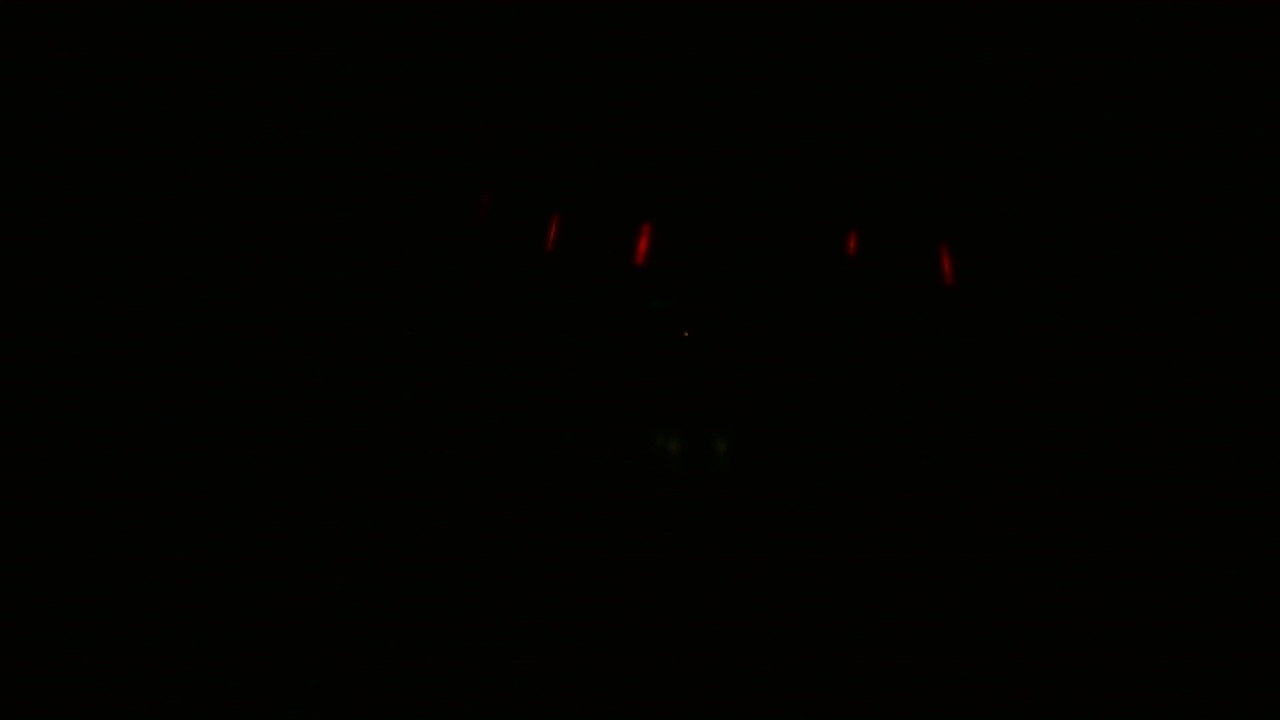pair1: (544, 215, 654, 265)
